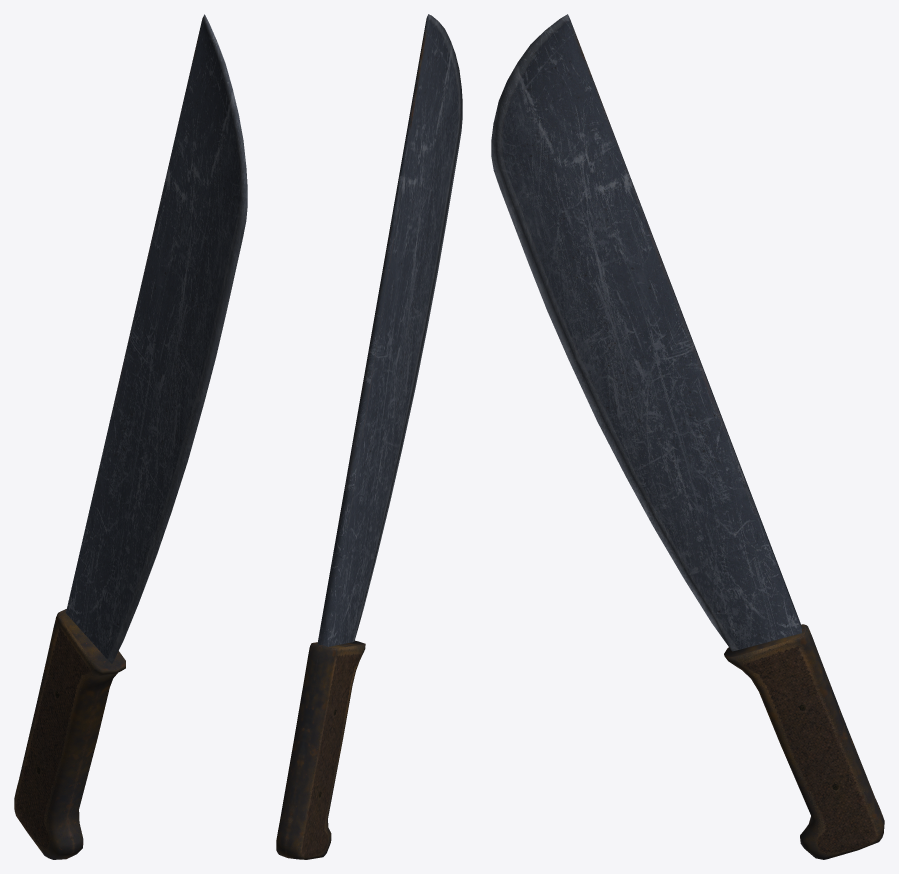
The model's file is Weapons_Machete01_LOD0.glb.
The picture shows the model from 3 angles, left to right: view 1: azimuth 30°, elevation 25°; view 2: azimuth 150°, elevation 25°; view 3: azimuth 270°, elevation 25°; orthographic projection. The views are drawn at different scales.
Visible parts, largest first — view 1: Hoodie; view 2: Hoodie; view 3: Hoodie.
Boxes of the visible parts, <box> form: Hoodie: <box>14,14,247,859</box>; Hoodie: <box>276,14,462,859</box>; Hoodie: <box>491,14,884,859</box>.
Size of the model in its own units: 0.0211 by 0.6245 by 0.2644.
1 material, 1 textured.
